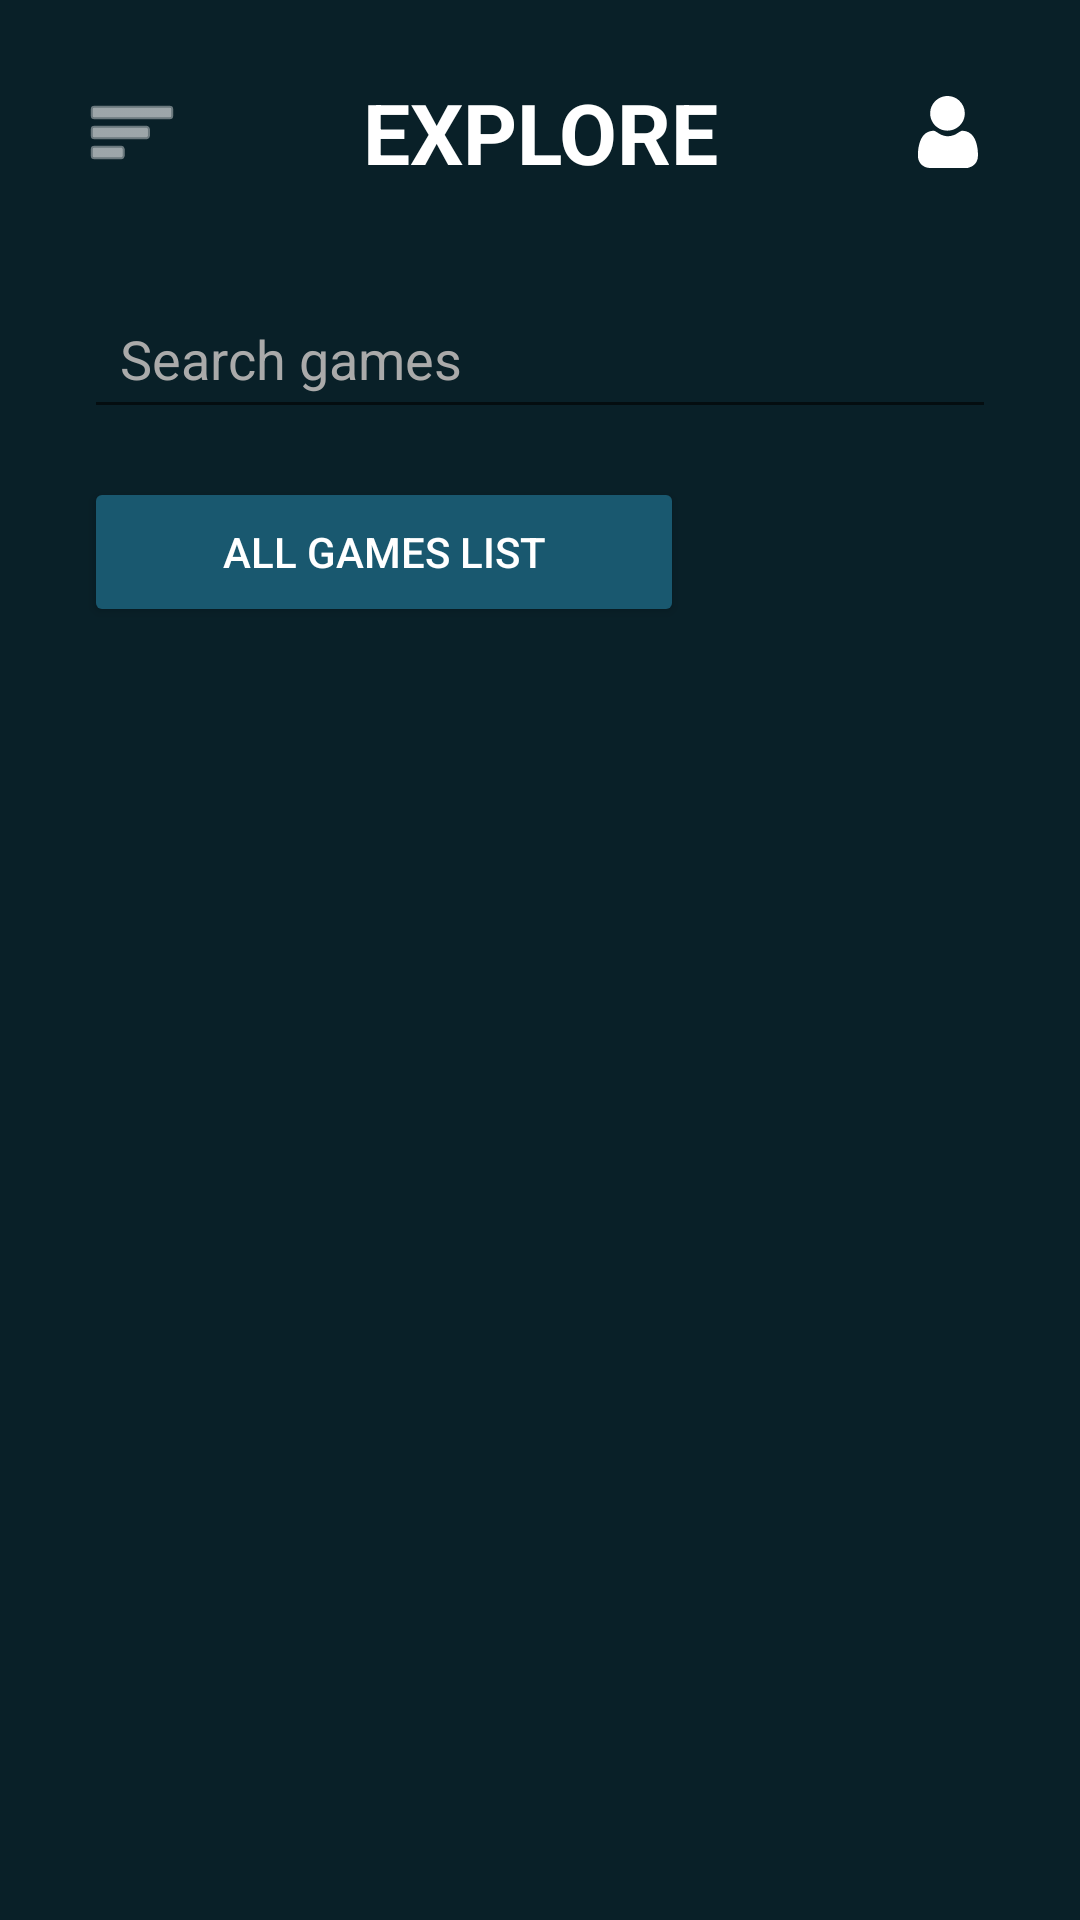

Named icons in this screenshot (1080 x 1920) and their centers, (x=x, y=y):
Open user profile: (x=948, y=132)
